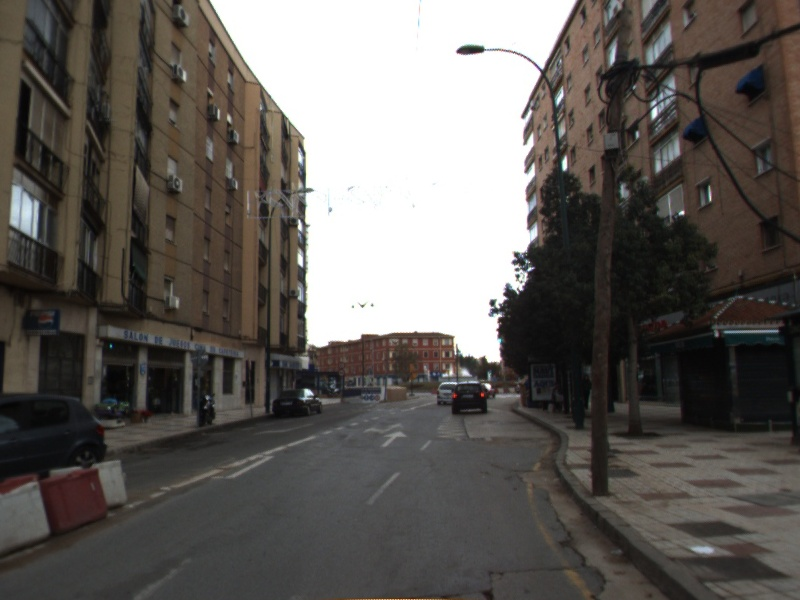STRAIGHT: (377, 429, 409, 449)
STRAIGHT_LEFT: (360, 420, 407, 436)
